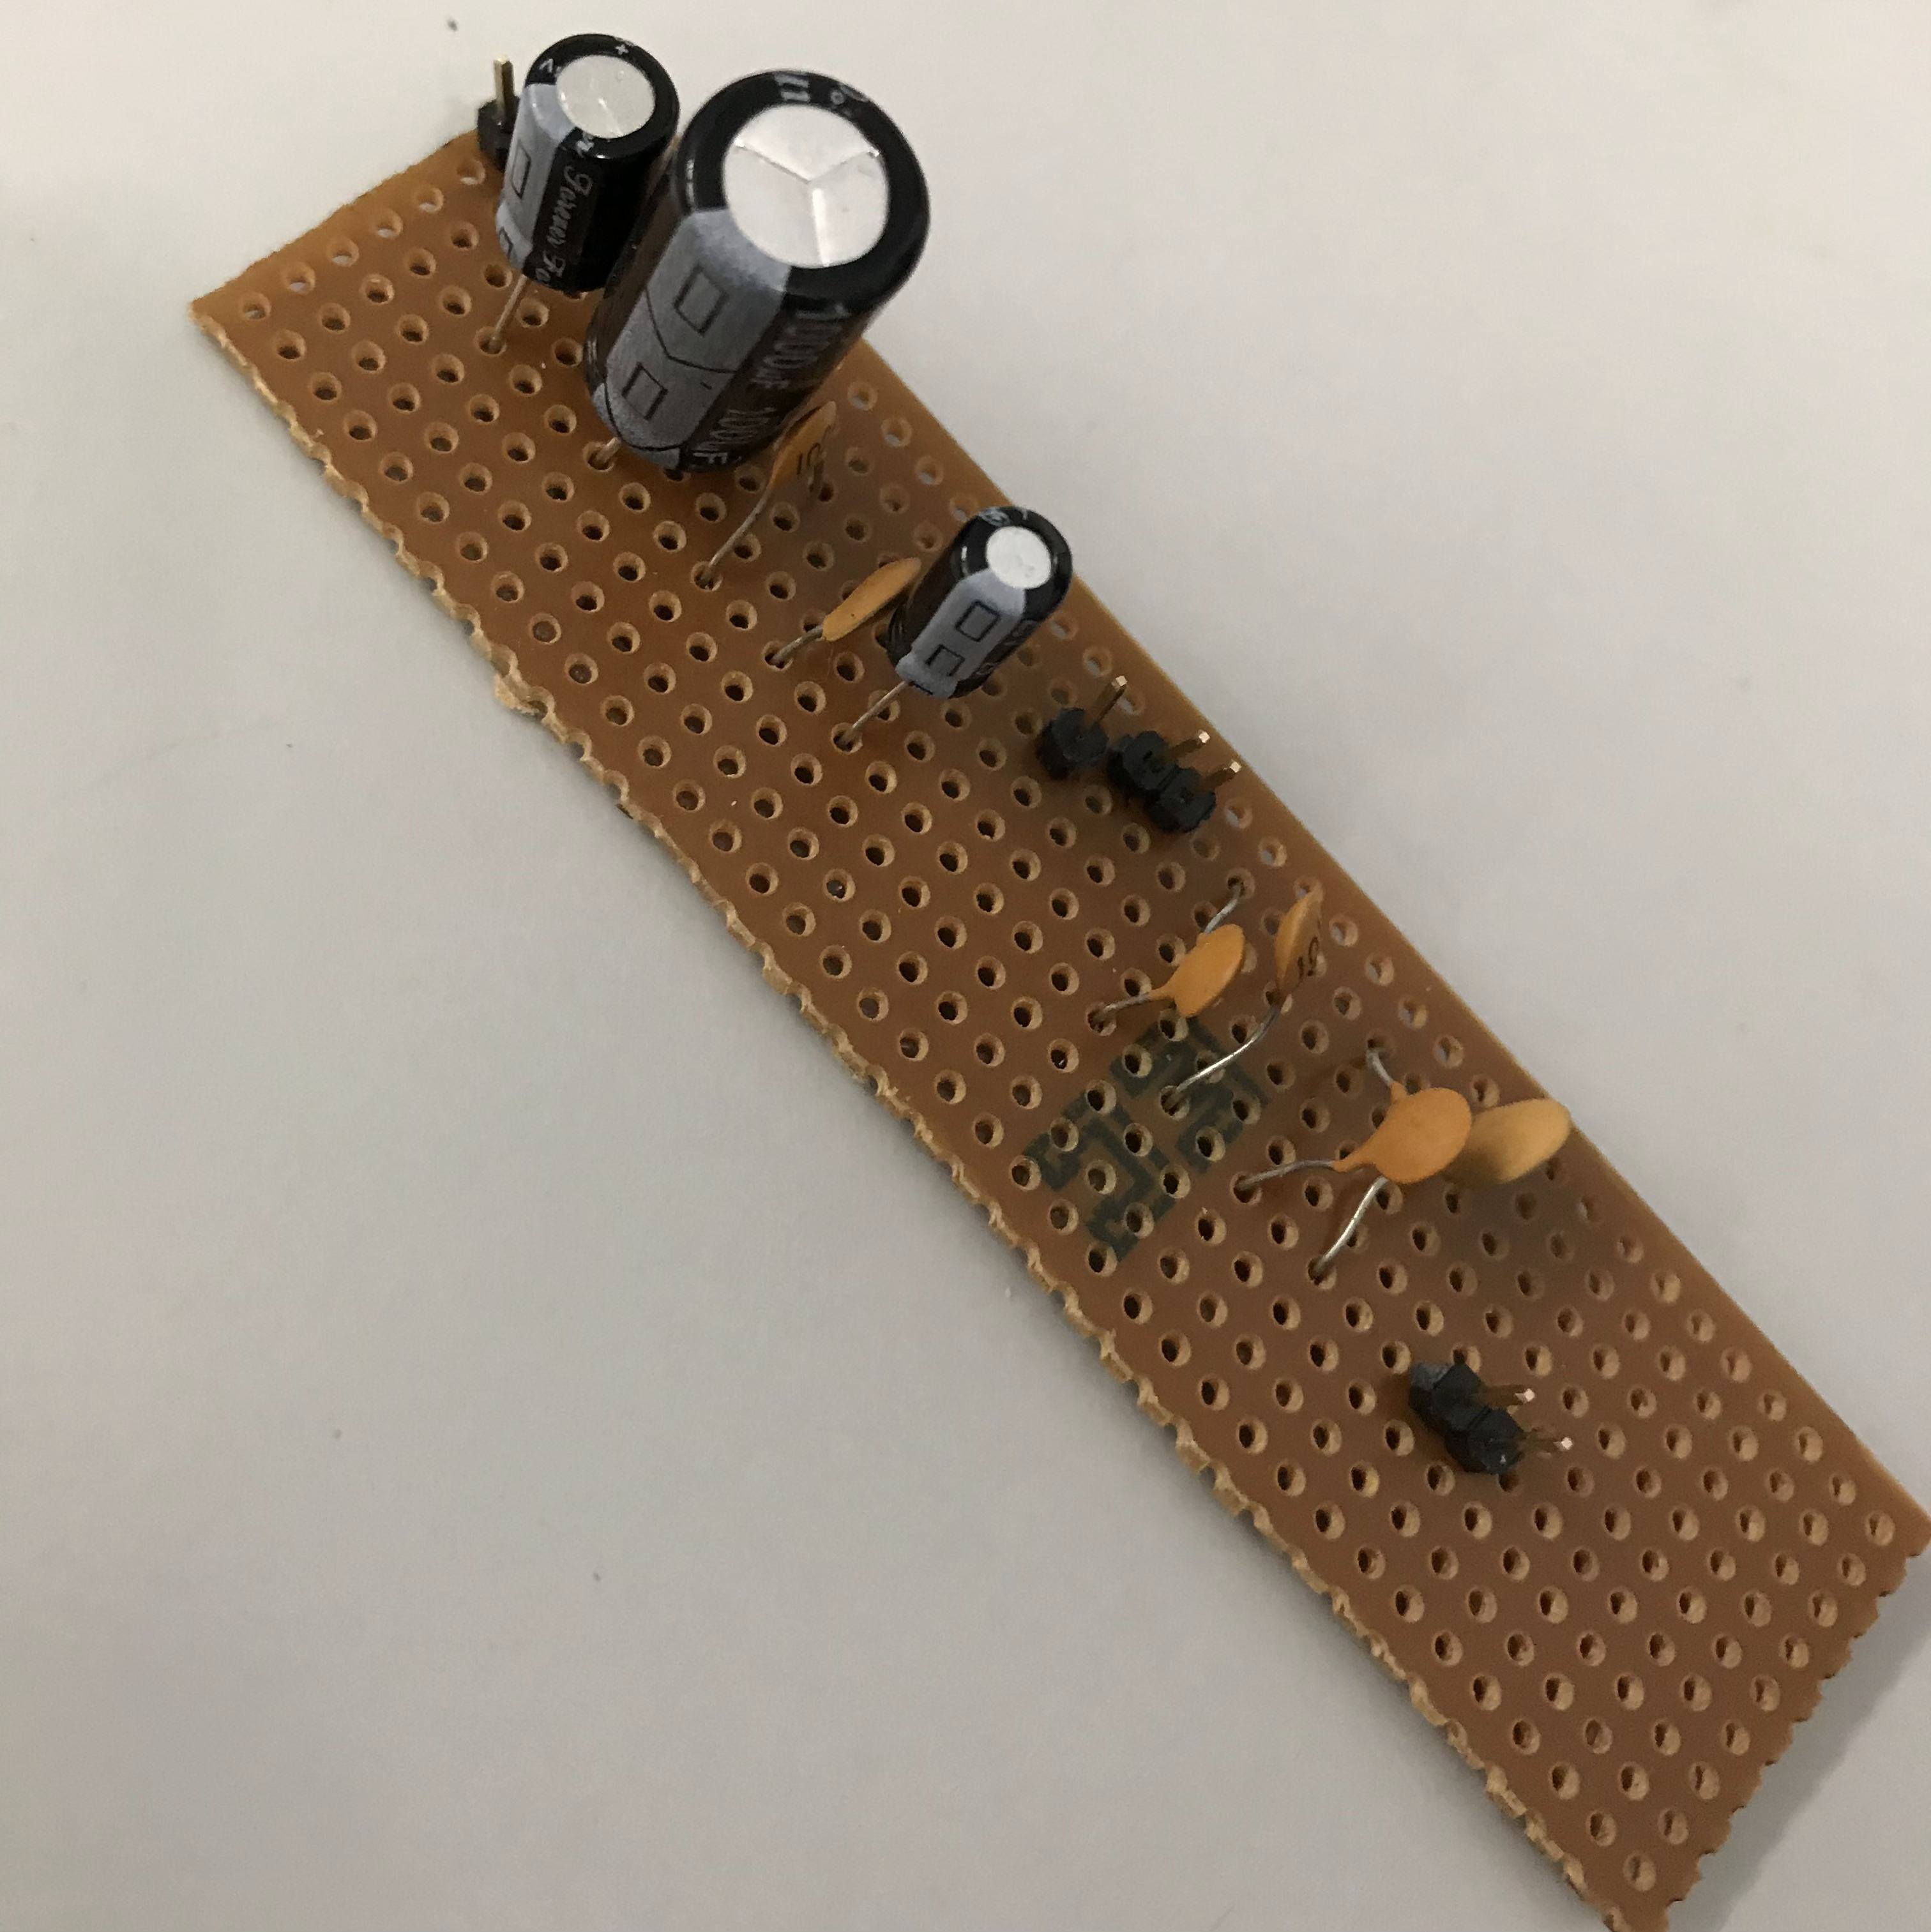Capacitor: (575, 65, 937, 486), (483, 28, 684, 304), (879, 506, 1073, 705)
